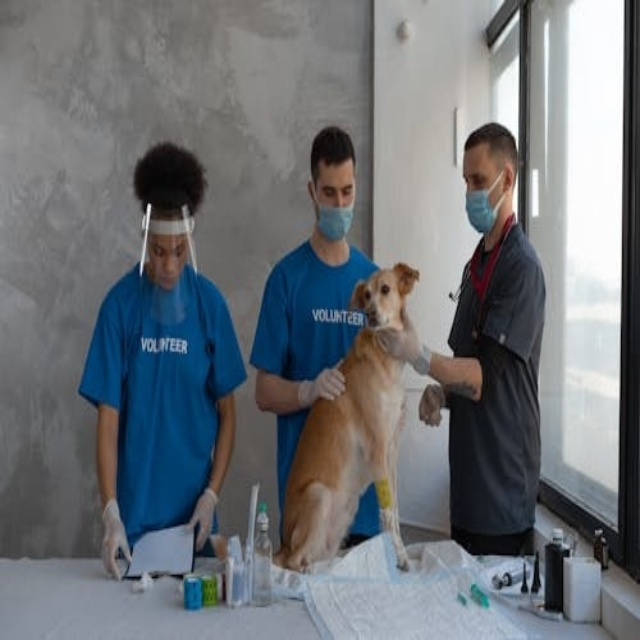Guantes: (298, 340, 352, 415), (381, 296, 431, 369), (90, 498, 137, 575), (413, 373, 456, 436), (182, 479, 220, 542)
Mascara: (143, 219, 194, 325), (465, 171, 507, 235), (313, 186, 354, 241)
Sin_gafas: (150, 236, 186, 261), (321, 179, 353, 204), (463, 165, 488, 190)
Sin_mascara: (151, 267, 180, 292)
